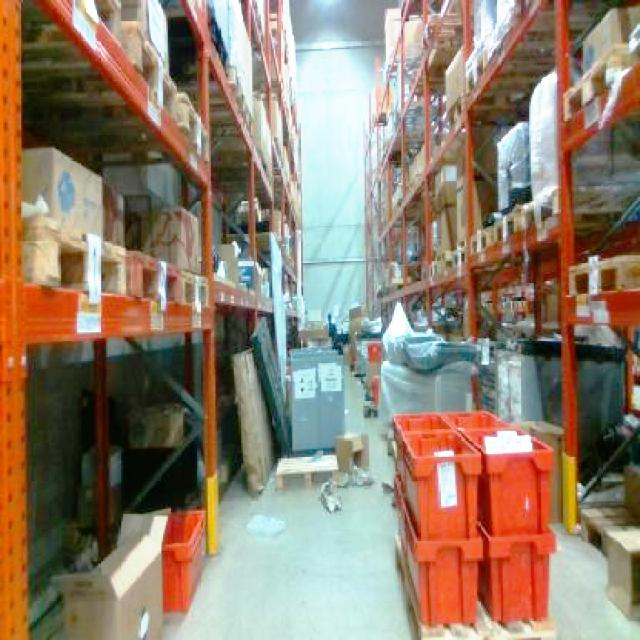ground: (23, 358, 638, 638)
pallet: (363, 0, 638, 638), (557, 0, 638, 638), (389, 408, 558, 638), (49, 506, 172, 638), (577, 462, 638, 629), (272, 431, 368, 491)
